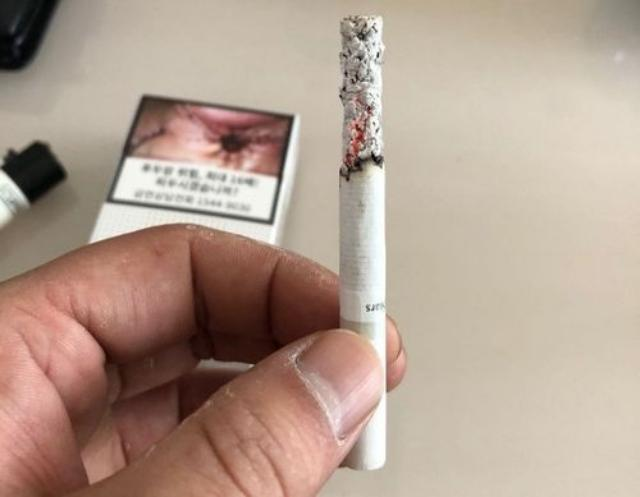Smoking: (338, 14, 387, 471)
